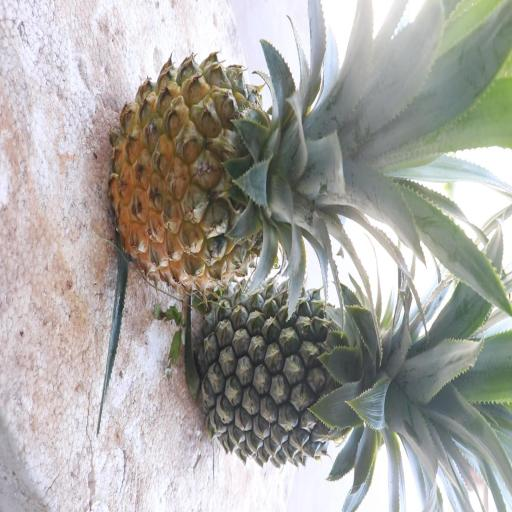Pineapple - v8 v1: (109, 52, 397, 293)
